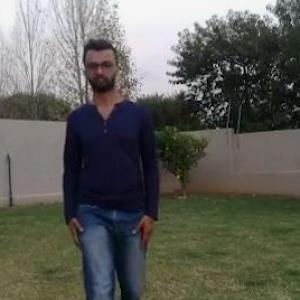follow: (67, 40, 151, 299)
